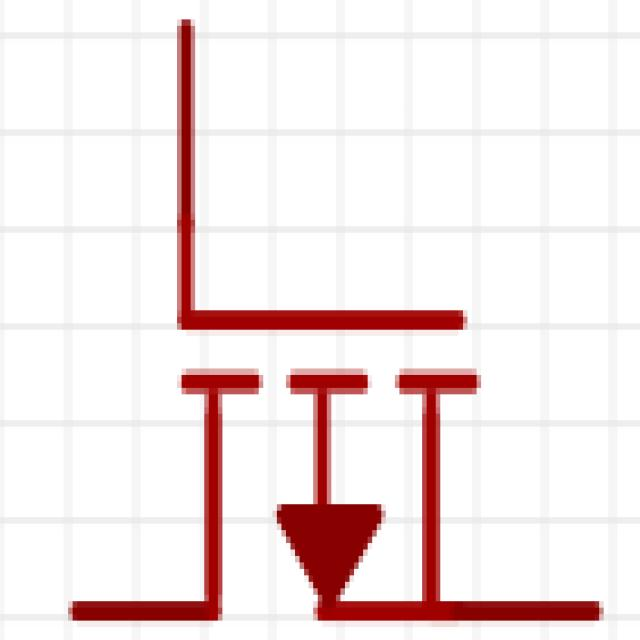pmos: (45, 110, 636, 640)
